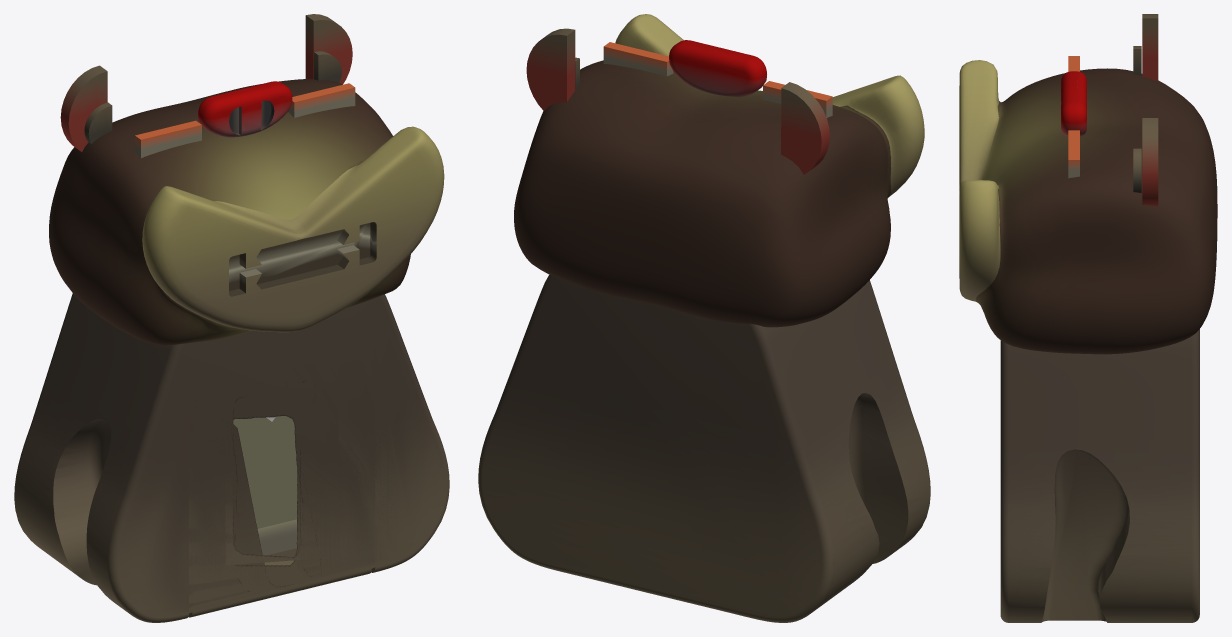
3 renders of one model, left to right at view 1: azimuth 30°, elevation 25°; view 2: azimuth 150°, elevation 25°; view 3: azimuth 270°, elevation 25°, orthographic. The views are drawn at different scales.
Visible parts, largest first — view 1: 身体, 头部, 鼻子, 眼睛; view 2: 身体, 头部, 鼻子, 眼睛; view 3: 头部, 身体, 鼻子, 眼睛.
Boxes of the visible parts, box(x1,y1,x2,y2) form: 身体: box(14, 293, 449, 622); 头部: box(49, 14, 444, 345); 鼻子: box(198, 81, 292, 137); 眼睛: box(135, 83, 355, 158); 身体: box(478, 274, 930, 622); 头部: box(514, 14, 924, 327); 鼻子: box(669, 40, 766, 96); 眼睛: box(603, 42, 832, 117); 头部: box(959, 14, 1217, 354); 身体: box(1000, 329, 1199, 622); 鼻子: box(1061, 71, 1086, 136); 眼睛: box(1068, 56, 1079, 178).
Size of the model in its own units: 275 by 385 by 181.
